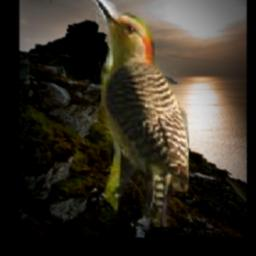Woodpecker: (92, 0, 189, 228)
